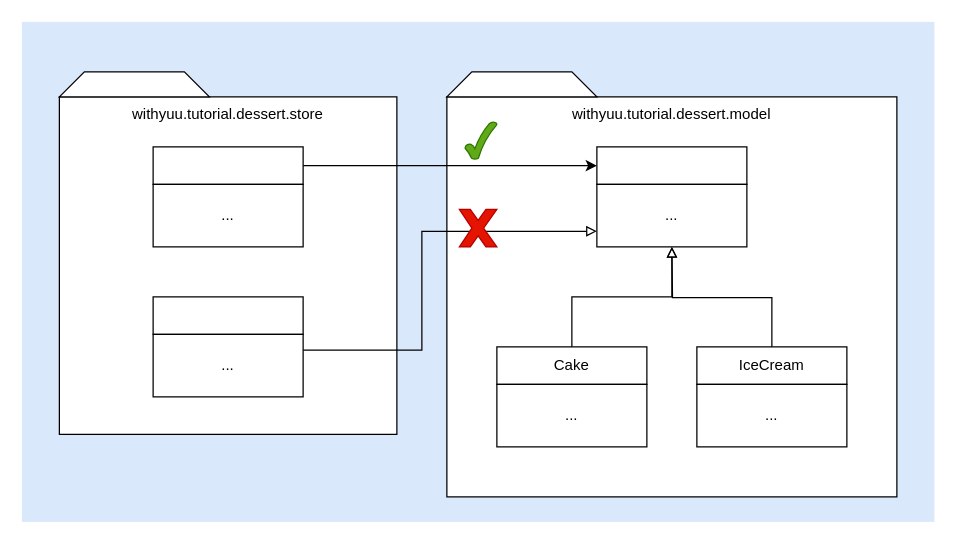
Some shapes in this 955 by 543 pixel diagram are drawn without their labels. The centre of each missing label's shape, as x and y in pixels:
"Chocolate" goes at (227,315).
"Dessert" goes at (671,165).
"DessertRestaurant" goes at (227,165).
